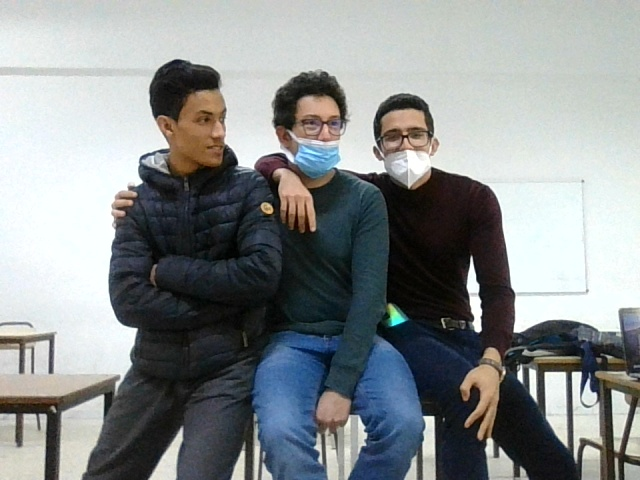mask_weared_incorrect: (270, 67, 354, 179), (368, 98, 450, 188)
without_mask: (146, 69, 239, 171)
